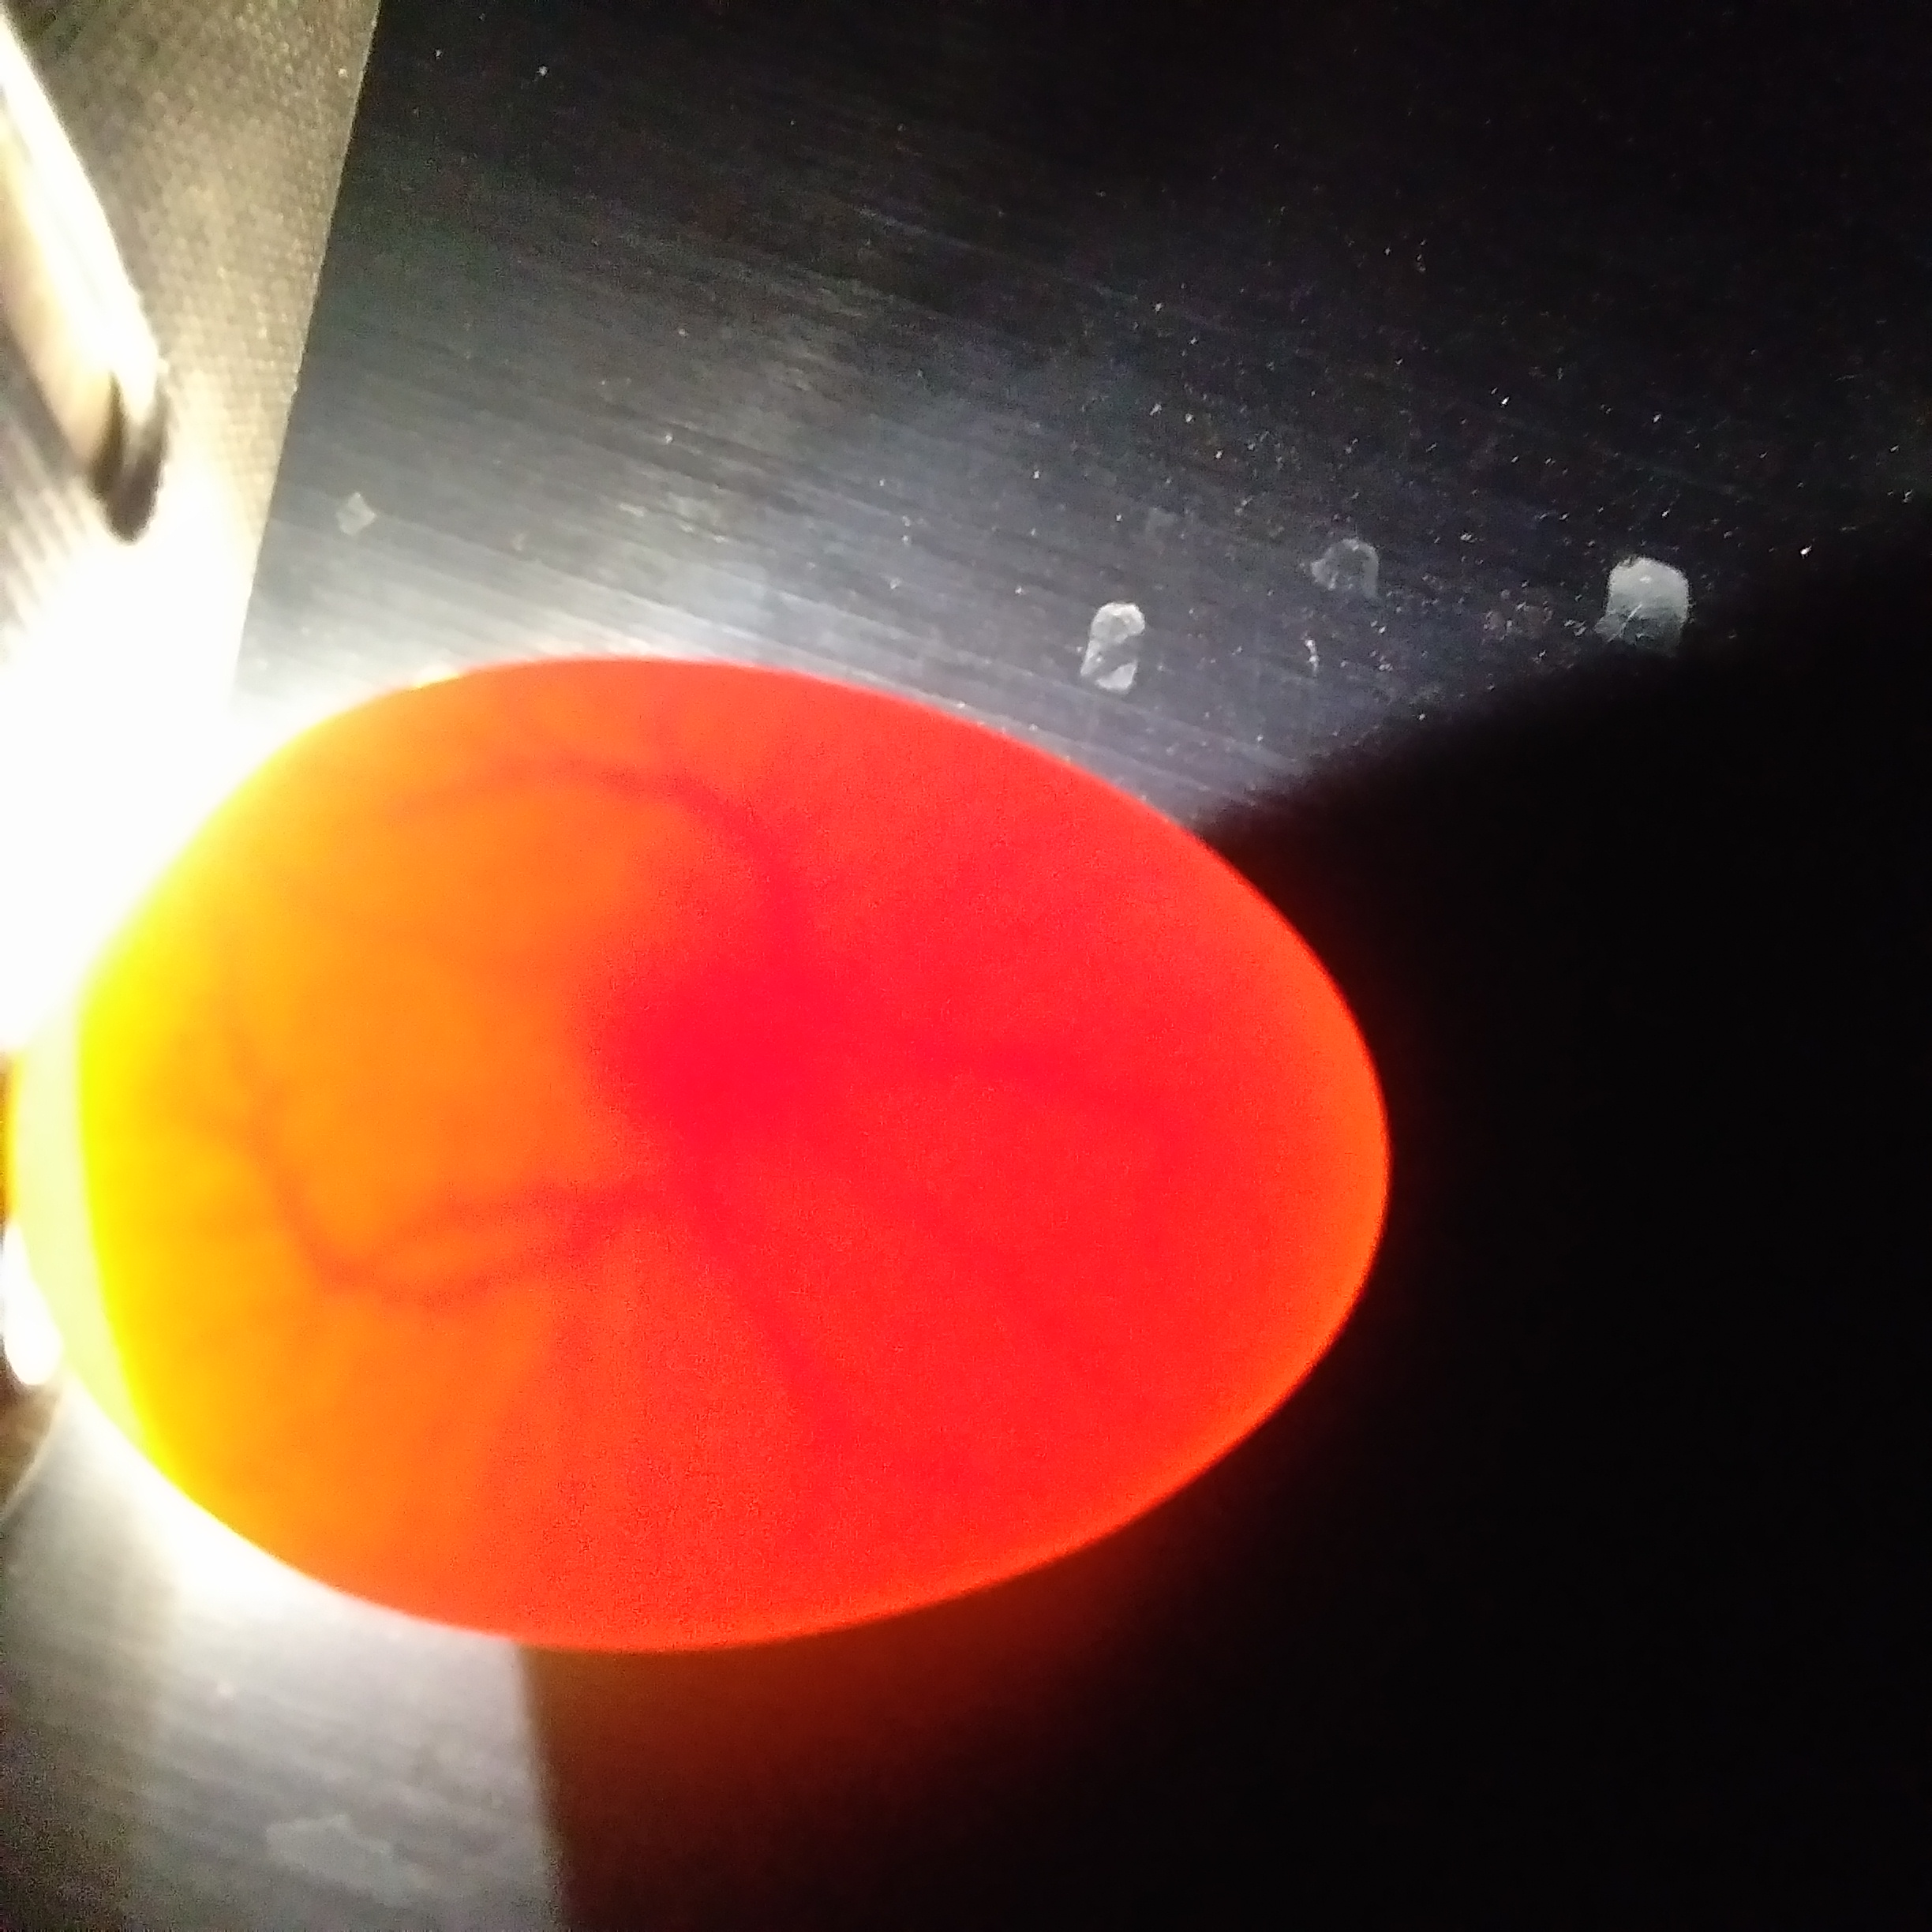bloodcell: (195, 915, 494, 1479), (513, 1283, 1058, 1527), (407, 741, 998, 893)
embryo: (531, 962, 906, 1178)
